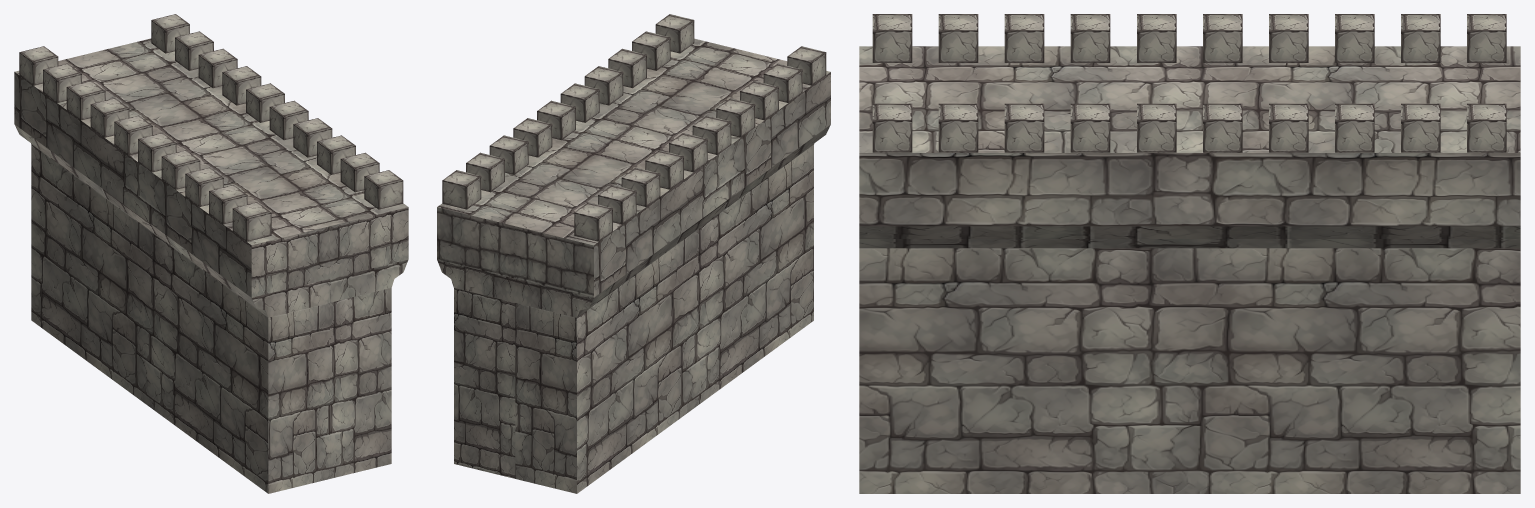
Rendered from Murailles_Closed.fbx.
The picture shows the model from 3 angles, left to right: view 1: azimuth 30°, elevation 25°; view 2: azimuth 150°, elevation 25°; view 3: azimuth 270°, elevation 25°; orthographic projection. The views are drawn at different scales.
Visible parts, largest first — view 1: Base, High Base, Cube, Support; view 2: Base, High Base, Cube, Support; view 3: Base, High Base, Cube, Support.
Part boxes in pixels (x1=…): Base: x1=31, y1=144, x2=391, y2=493; High Base: x1=14, y1=38, x2=408, y2=297; Cube: x1=19, y1=14, x2=403, y2=241; Support: x1=15, y1=125, x2=408, y2=317; Base: x1=454, y1=145, x2=813, y2=493; High Base: x1=437, y1=38, x2=830, y2=297; Cube: x1=442, y1=14, x2=826, y2=241; Support: x1=437, y1=124, x2=830, y2=317; Base: x1=859, y1=248, x2=1520, y2=493; High Base: x1=859, y1=46, x2=1520, y2=226; Cube: x1=872, y1=14, x2=1506, y2=152; Support: x1=859, y1=226, x2=1520, y2=248.
Bounding box in the file's own units: 382 × 642 × 1000.
